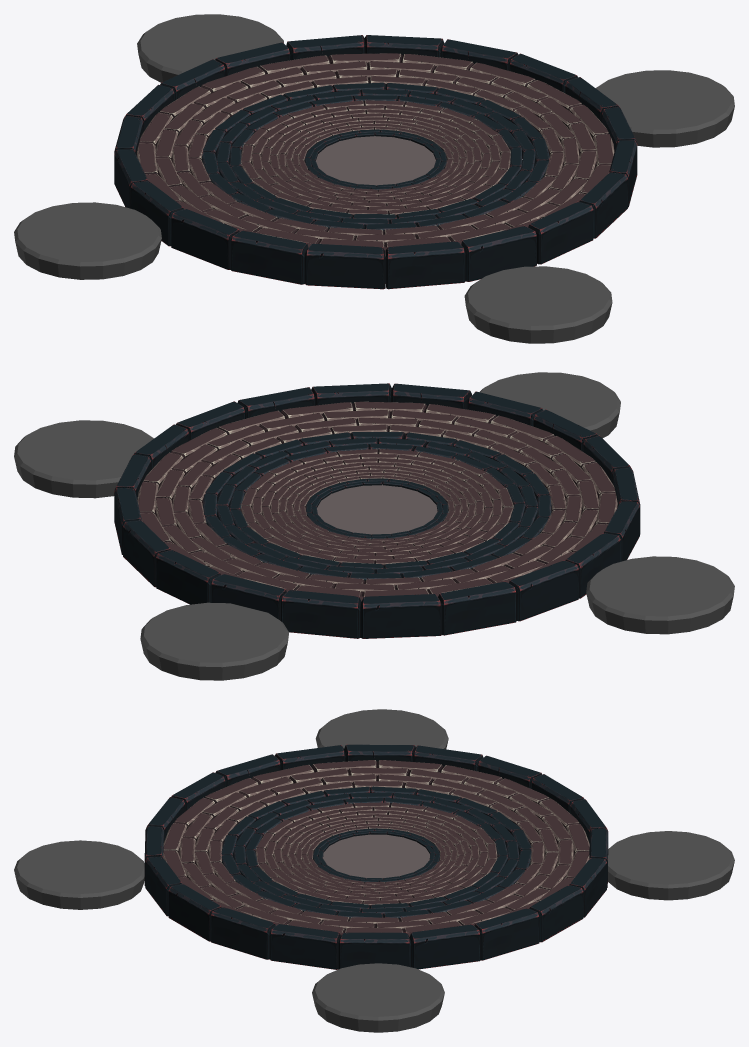
Rendered from Arena_Inner.fbx.
3 renders of one model, top to bottom at view 1: azimuth 30°, elevation 25°; view 2: azimuth 150°, elevation 25°; view 3: azimuth 270°, elevation 25°, orthographic. The views are drawn at different scales.
Parts seen in each view (by area): view 1: rim_rock, Pillar, Pillar2, Pillar3, Pillar1, arena_center; view 2: rim_rock, Pillar2, Pillar1, Pillar3, Pillar, arena_center; view 3: rim_rock, Pillar3, Pillar, Pillar1, Pillar2, arena_center.
Part boxes in pixels (left/top/right/bottom): rim_rock: left=114, top=35, right=637, bottom=289; Pillar: left=464, top=266, right=612, bottom=343; Pillar2: left=14, top=202, right=161, bottom=279; Pillar3: left=596, top=70, right=734, bottom=147; Pillar1: left=137, top=14, right=283, bottom=82; arena_center: left=316, top=136, right=435, bottom=185; rim_rock: left=114, top=383, right=640, bottom=638; Pillar2: left=586, top=556, right=734, bottom=634; Pillar1: left=140, top=602, right=289, bottom=680; Pillar3: left=14, top=420, right=153, bottom=498; Pillar: left=479, top=372, right=620, bottom=438; arena_center: left=317, top=484, right=437, bottom=534; rim_rock: left=144, top=744, right=608, bottom=969; Pillar3: left=312, top=963, right=444, bottom=1032; Pillar: left=14, top=840, right=144, bottom=909; Pillar1: left=608, top=831, right=734, bottom=900; Pillar2: left=315, top=709, right=448, bottom=749; arena_center: left=323, top=834, right=429, bottom=878.
Bounding box in the file's own units: 385 × 24.96 × 384.
